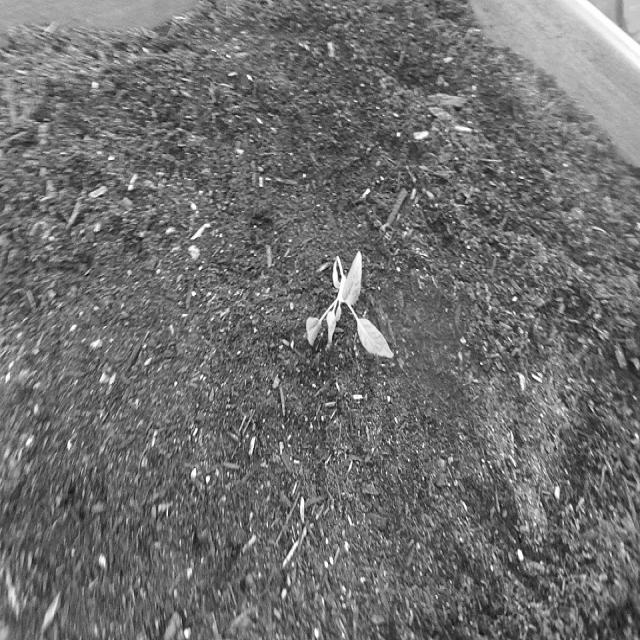Healthy: (302, 247, 398, 372)
